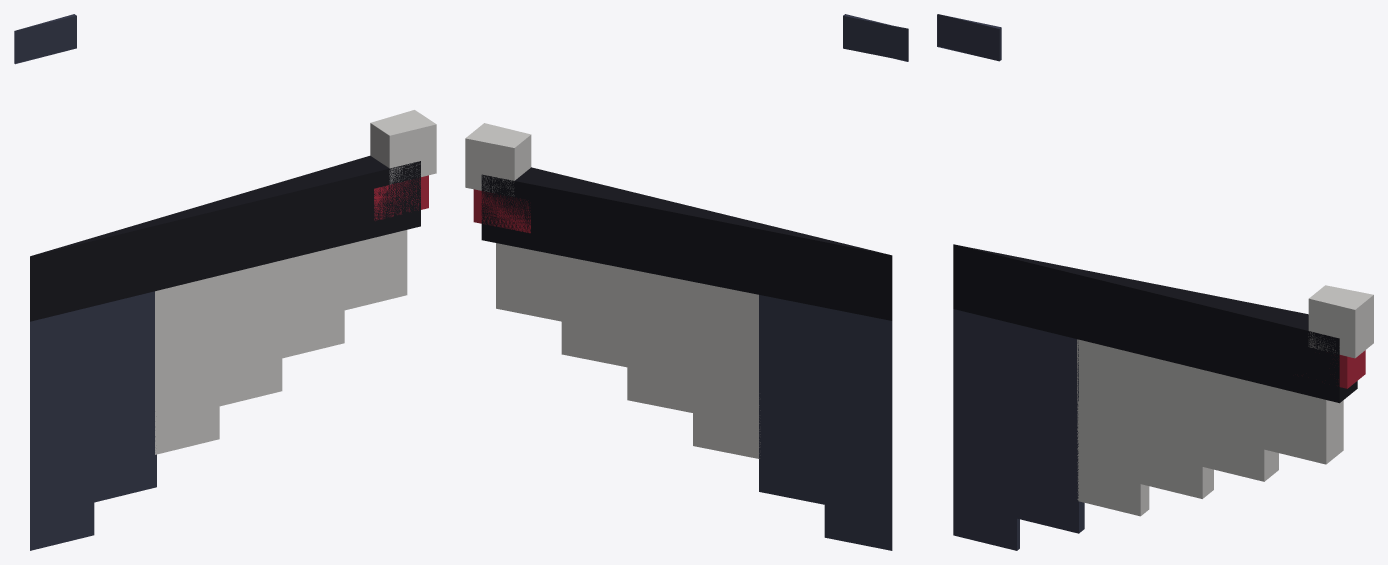
Rendered from canopy.corner5.deck.cut.glb.
3 views of the same model, side by side, from view 1: azimuth 30°, elevation 25°; view 2: azimuth 150°, elevation 25°; view 3: azimuth 330°, elevation 25° (orthographic).
Visible parts, largest first — view 1: canopy.corner5.deck.cut; view 2: canopy.corner5.deck.cut; view 3: canopy.corner5.deck.cut.
Part boxes in pixels (<box>): canopy.corner5.deck.cut: <box>14,14,436,550</box>; canopy.corner5.deck.cut: <box>465,14,908,550</box>; canopy.corner5.deck.cut: <box>937,14,1373,550</box>.
Bounding box in the file's own units: 1.69 × 2 × 0.1471.
